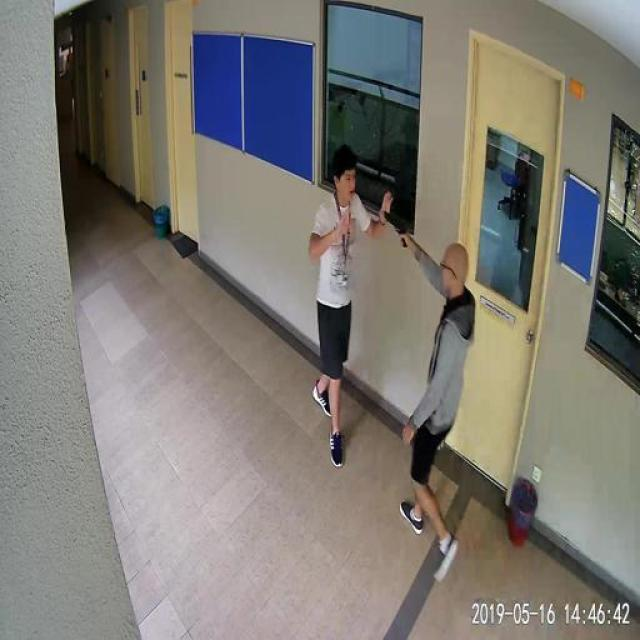Gun: (378, 204, 420, 258)
